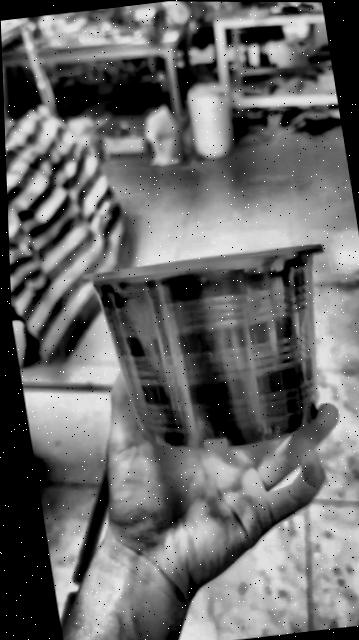pot: (85, 244, 321, 448)
